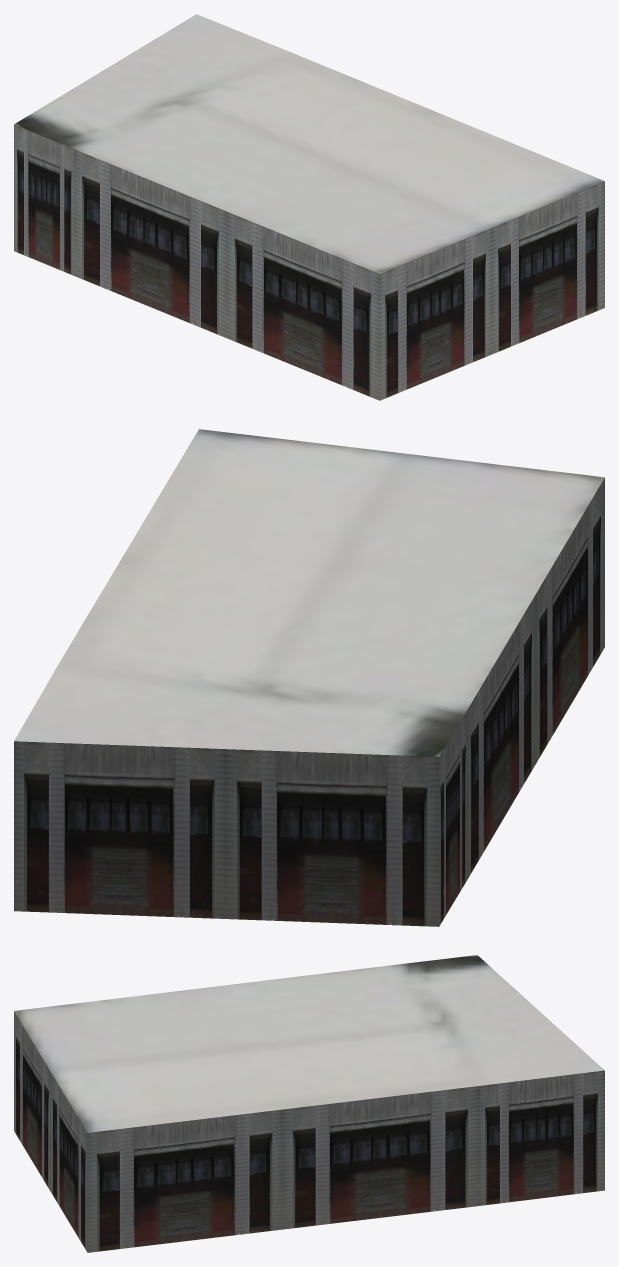
3 views of the same model, one above another, from view 1: azimuth 30°, elevation 25°; view 2: azimuth 150°, elevation 25°; view 3: azimuth 270°, elevation 25° (orthographic). The views are drawn at different scales.
Visible parts, largest first — view 1: SketchUp (×4); view 2: SketchUp (×4); view 3: SketchUp (×4).
Boxes of the visible parts, <box> form: SketchUp (×4): <box>14,14,604,400</box>; SketchUp (×4): <box>14,429,604,926</box>; SketchUp (×4): <box>14,955,604,1252</box>.
Bounding box in the file's own units: 12.14 × 17.04 × 3.82.
Materials: 2 (2 with a texture image).
